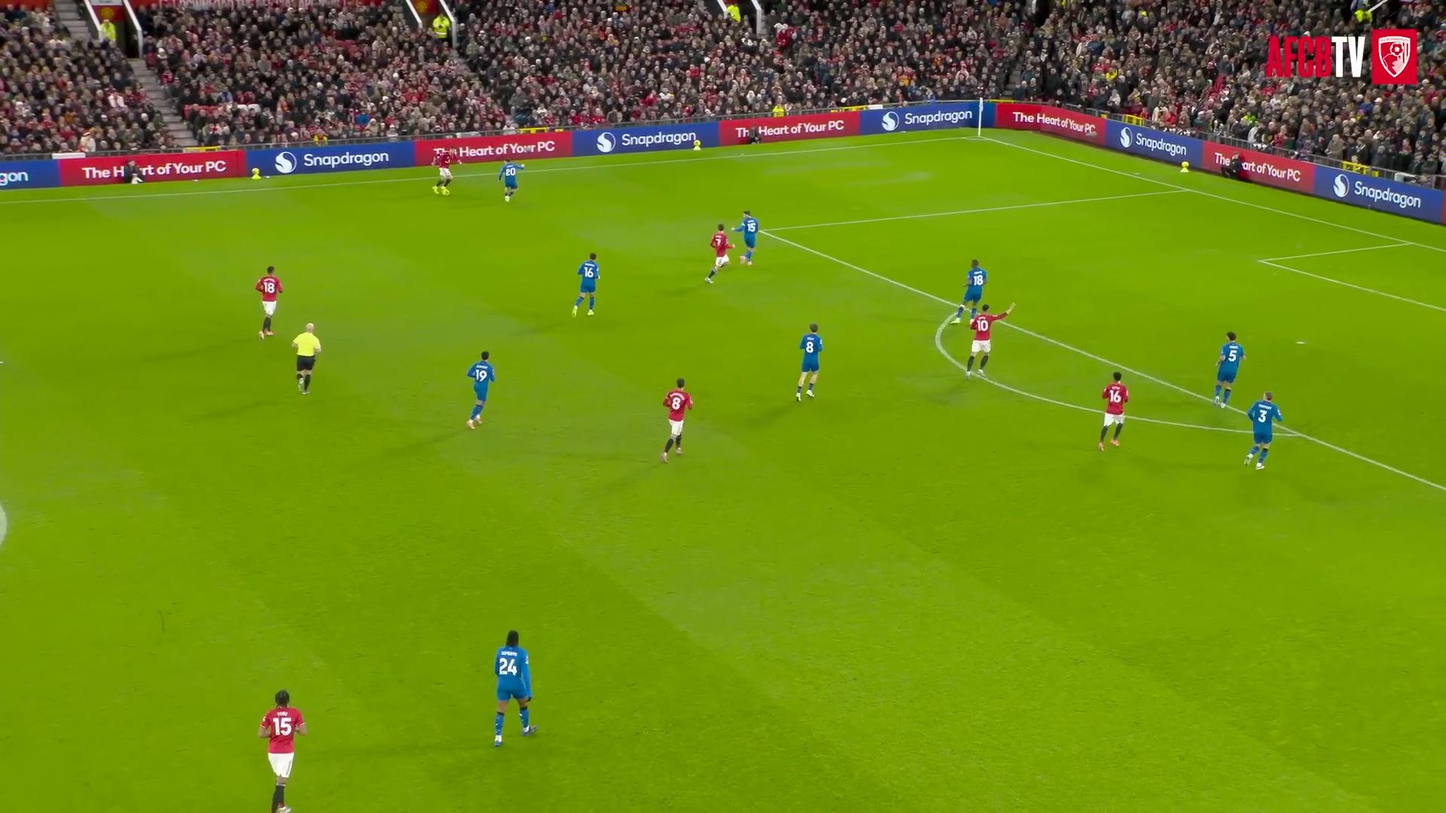player: (258, 690, 307, 812), (494, 631, 535, 746), (966, 303, 1015, 379), (1245, 392, 1283, 469), (661, 378, 693, 462), (1098, 371, 1128, 450), (1213, 331, 1244, 407), (951, 260, 987, 323), (467, 351, 494, 428), (796, 323, 822, 400), (255, 266, 282, 340), (572, 252, 599, 316), (706, 224, 733, 282), (733, 209, 758, 265), (432, 150, 461, 195), (498, 160, 524, 202)
referee: (291, 323, 321, 394)
